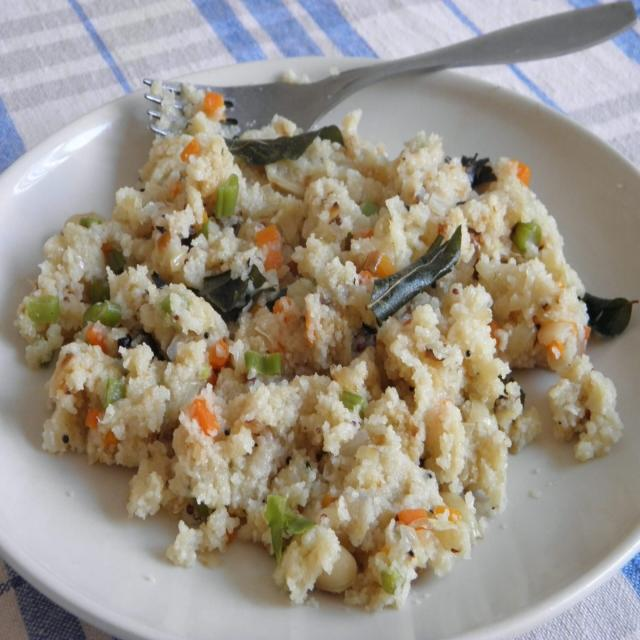upma: (4, 92, 631, 628)
